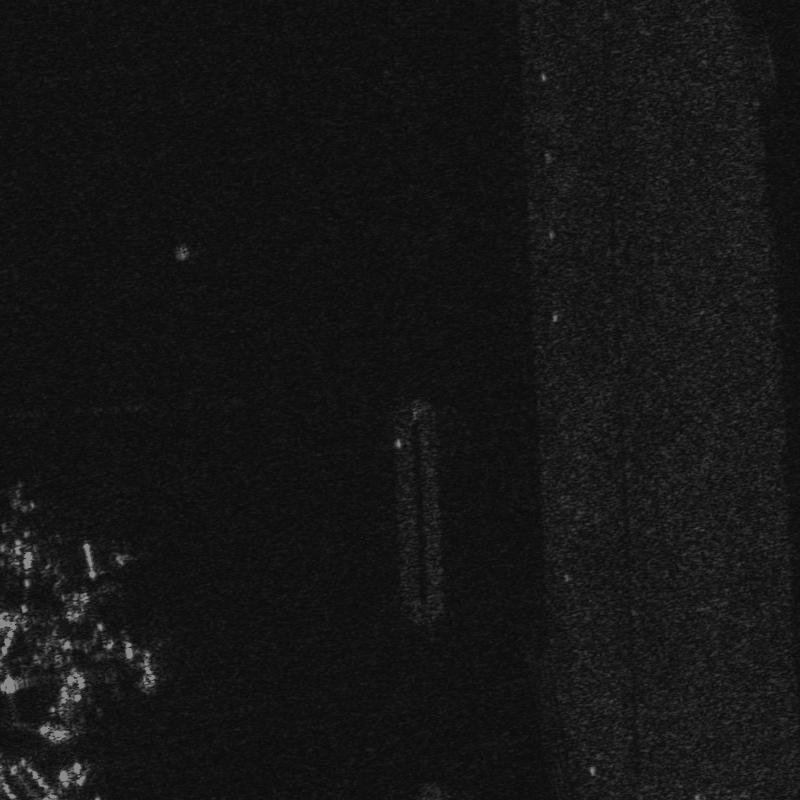A320/321: (1, 484, 78, 580)
